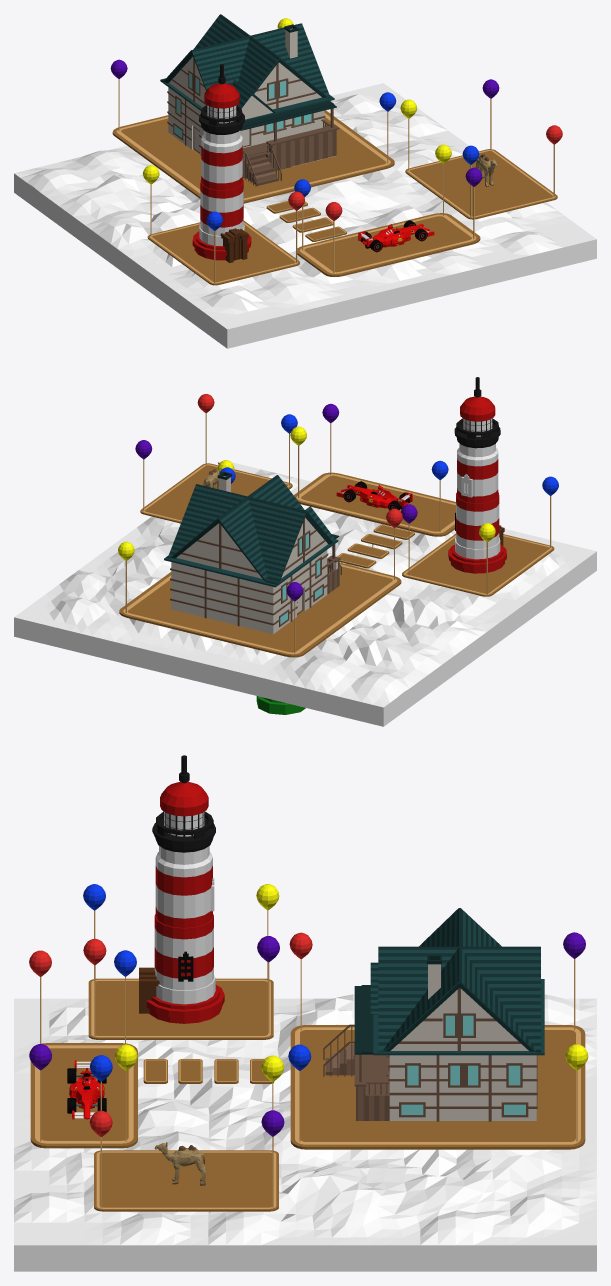
The picture shows the model from 3 angles, top to bottom: view 1: azimuth 30°, elevation 25°; view 2: azimuth 150°, elevation 25°; view 3: azimuth 270°, elevation 25°; orthographic projection. The views are drawn at different scales.
Visible parts, largest first — view 1: Cube.013, Cube.793, OBJRANDOM_LIGHTHOUSE, VEHICLES_FORMULA_1; view 2: Cube.013, Cube.793, OBJRANDOM_LIGHTHOUSE, VEHICLES_FORMULA_1, UNDERGROUND_PIPES; view 3: Cube.013, Cube.793, OBJRANDOM_LIGHTHOUSE, VEHICLES_FORMULA_1, ANIMAL_CAMELLO.
Part boxes in pixels (x1,y1,x2,y2): Cube.013: (14, 18, 596, 348); Cube.793: (160, 14, 339, 186); OBJRANDOM_LIGHTHOUSE: (192, 64, 251, 262); VEHICLES_FORMULA_1: (358, 220, 434, 252); Cube.013: (14, 394, 596, 726); Cube.793: (164, 471, 341, 634); OBJRANDOM_LIGHTHOUSE: (448, 377, 506, 573); VEHICLES_FORMULA_1: (336, 481, 412, 510); UNDERGROUND_PIPES: (256, 696, 305, 714); Cube.013: (14, 884, 596, 1271); Cube.793: (323, 908, 544, 1121); OBJRANDOM_LIGHTHOUSE: (139, 755, 224, 1023); VEHICLES_FORMULA_1: (67, 1060, 106, 1119); ANIMAL_CAMELLO: (154, 1142, 205, 1185).
Bounding box in the file's own units: 4000 × 2984 × 4000.
34 materials, 2 textured.
